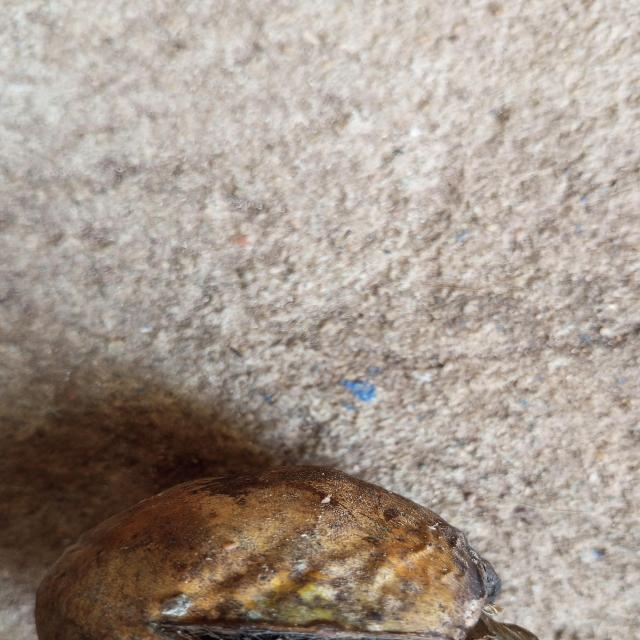damaged: (32, 463, 536, 640)
